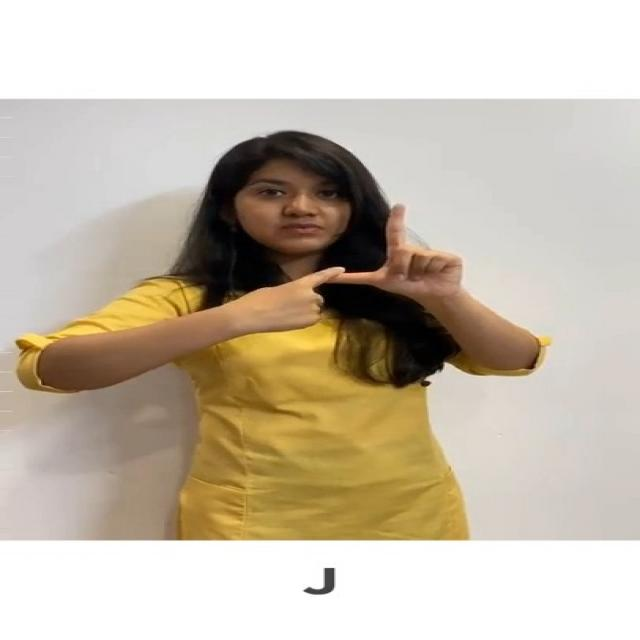J: (221, 197, 476, 340)
